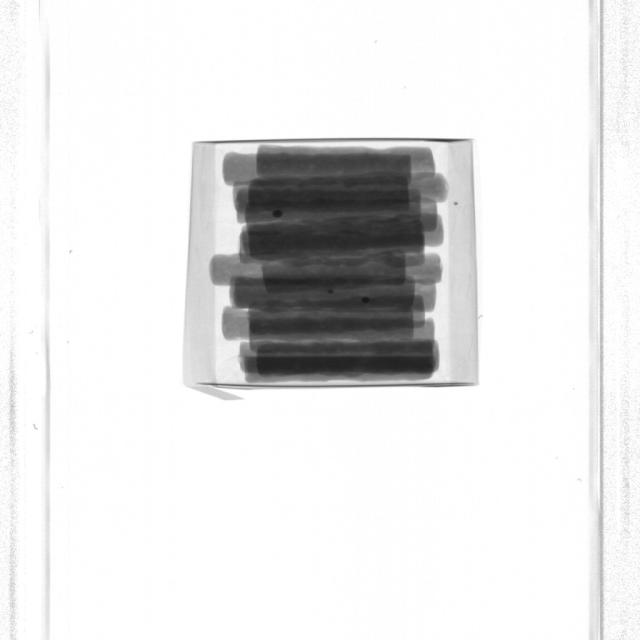ym: (273, 209, 282, 217), (361, 297, 369, 304), (327, 289, 334, 294), (454, 203, 458, 206)
